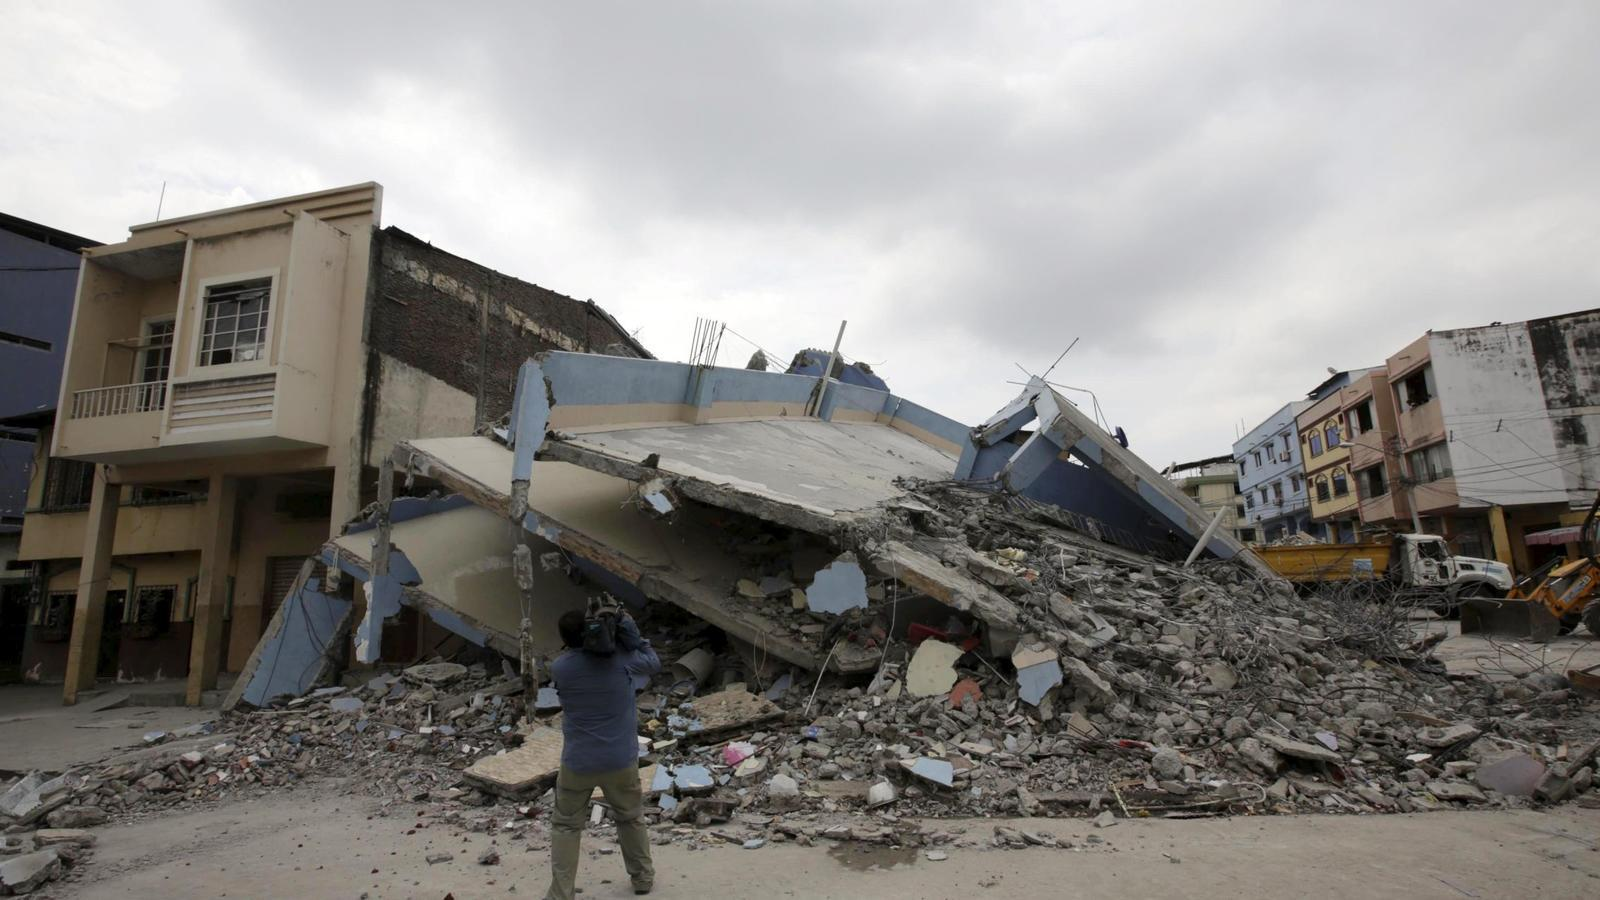destroyed: (235, 310, 1418, 775)
